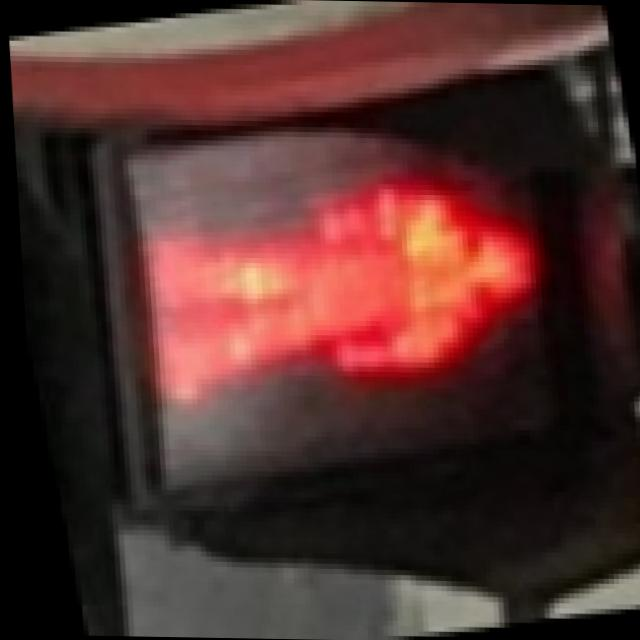red_light: (101, 134, 590, 492)
